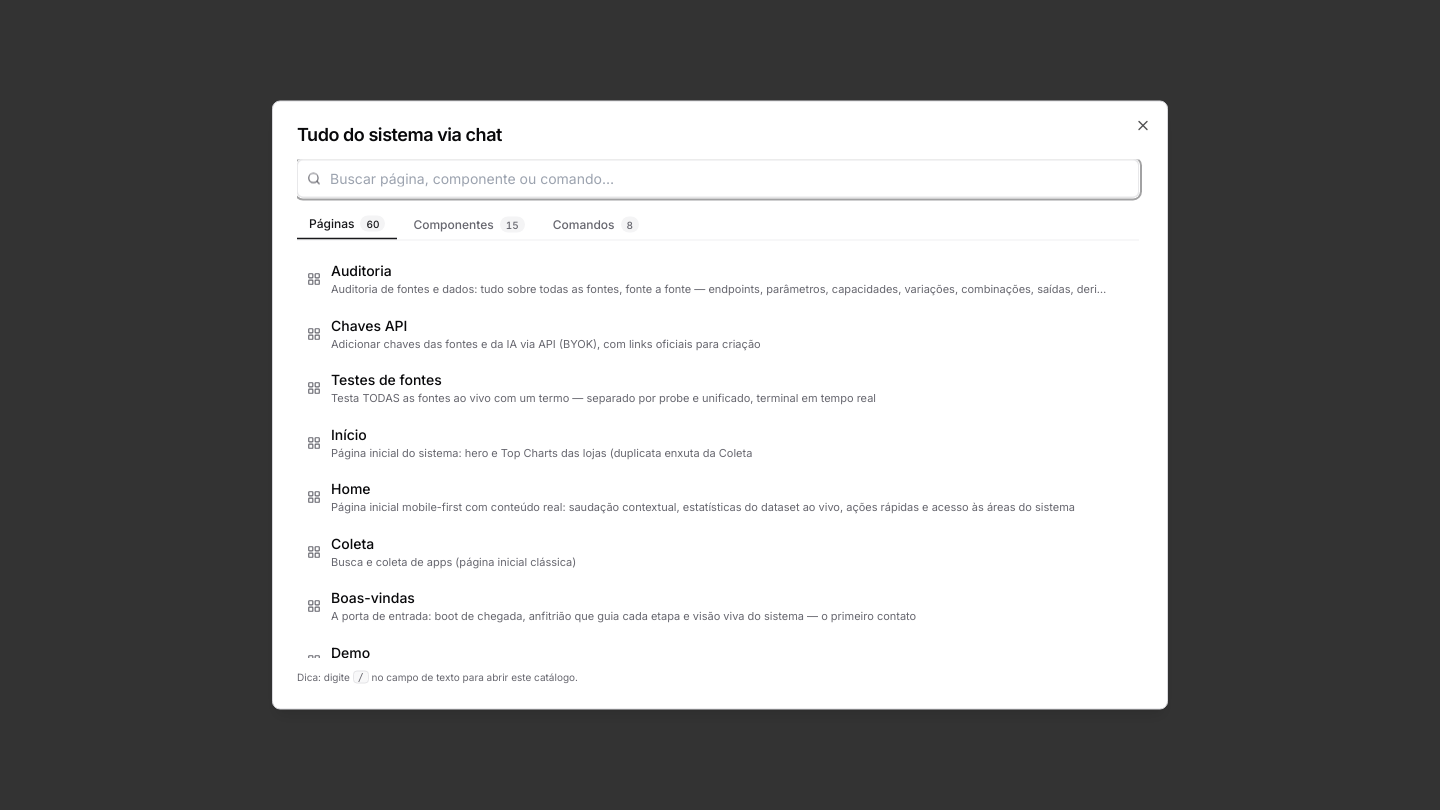
ChatCommandPalette › busca filtra em tempo real (acento-insensível)
Type "configurac" into the search field named "buscar no catálogo".
click(718, 178); type("configurac")  # box [297,160,1139,198]
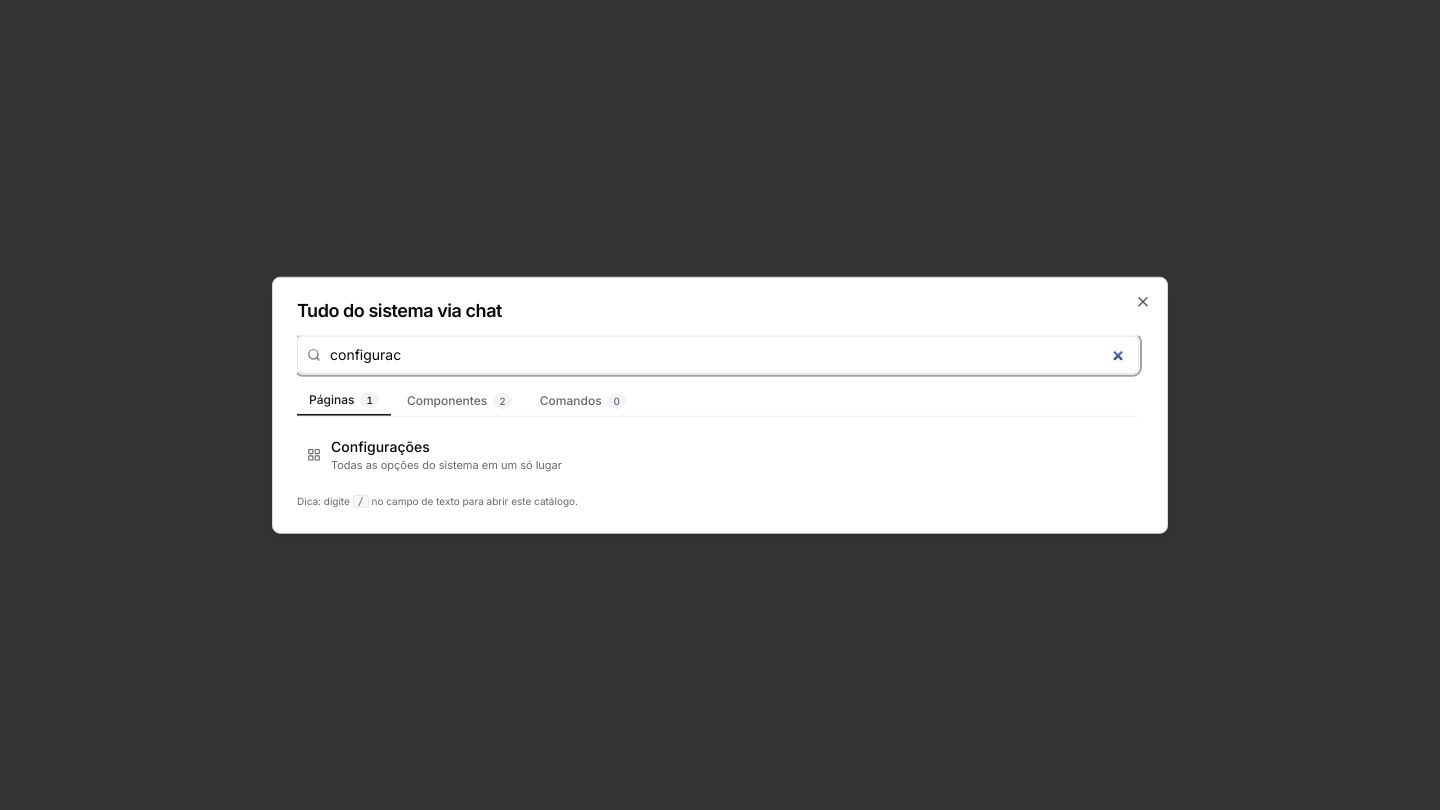
Expected: the text "Configurações" is shown, [331,438,430,455]
